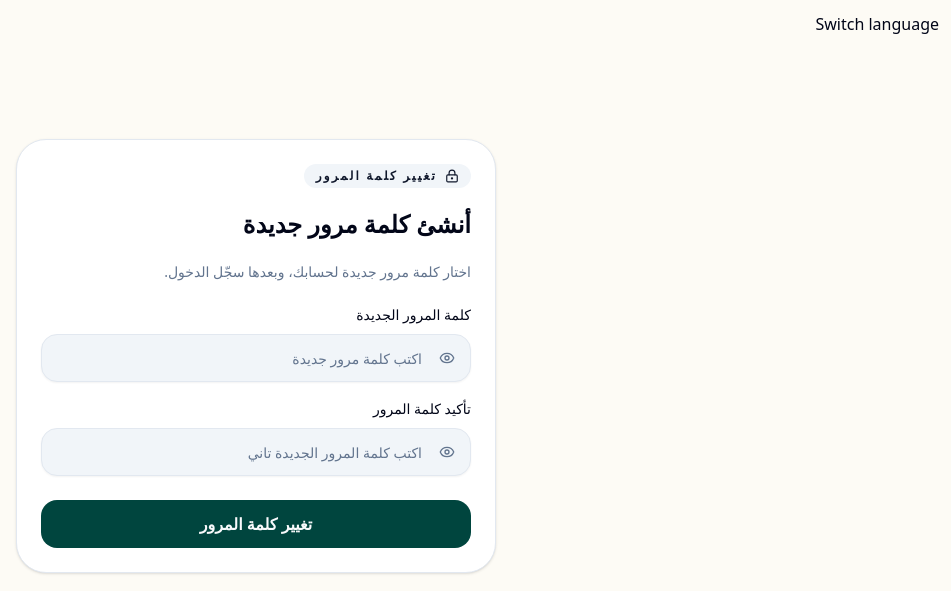
Test: localized account recovery › validates confirmation, labels visibility controls, and sends the reset token
The width and height of the screenshot is (951, 591).
Type "Test-password" into the password field labelled "كلمة المرور الجديدة".
click(256, 358); type("Test-password")  # box [41,334,471,382]
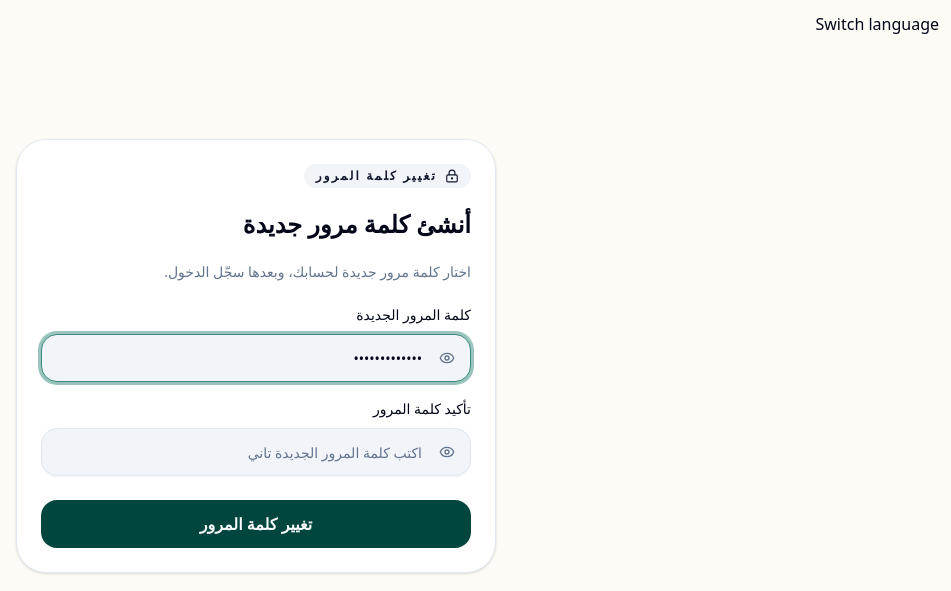
Click the button named "إظهار كلمة المرور" below "كلمة المرور الجديدة".
click(447, 358)  # box [439,350,455,366]
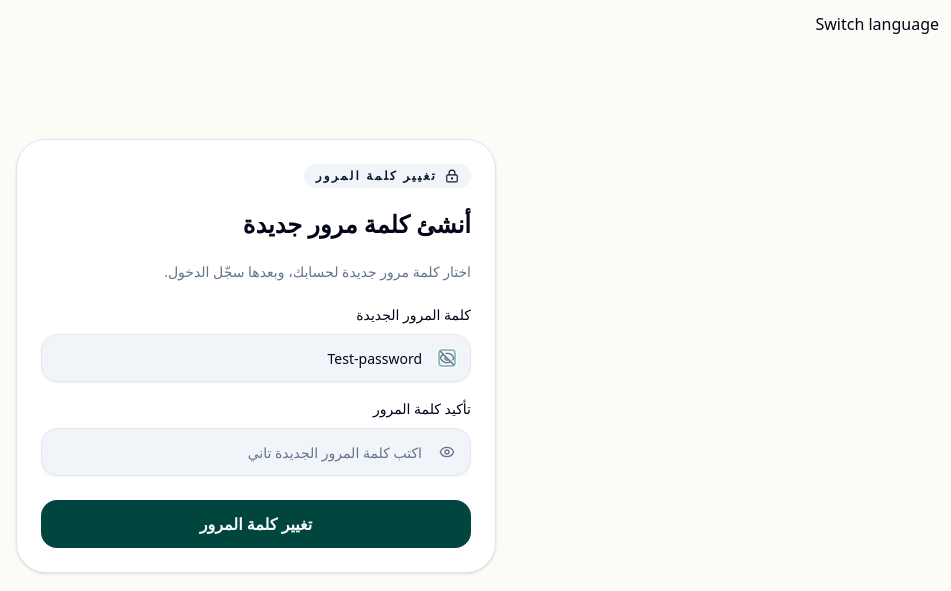
Result: the field labelled "كلمة المرور الجديدة" shows its text at [41,334,471,382]
Type "Different-password" into the password field labelled "تأكيد كلمة المرور".
click(256, 452); type("Different-password")  # box [41,428,471,476]
Then press Enter
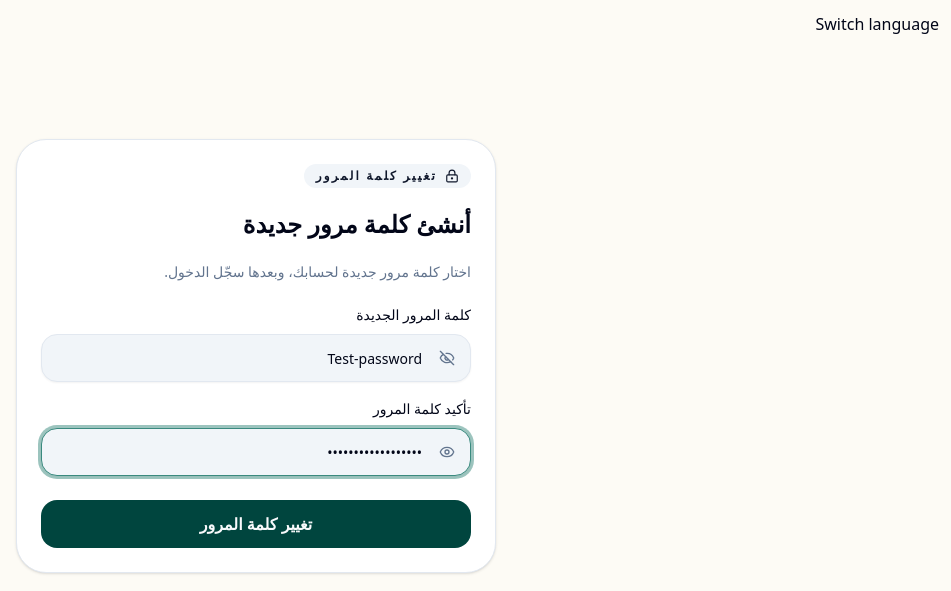
Type "Test-password" into the password field labelled "تأكيد كلمة المرور".
click(256, 452); type("Test-password")  # box [41,428,471,476]
Then press Enter
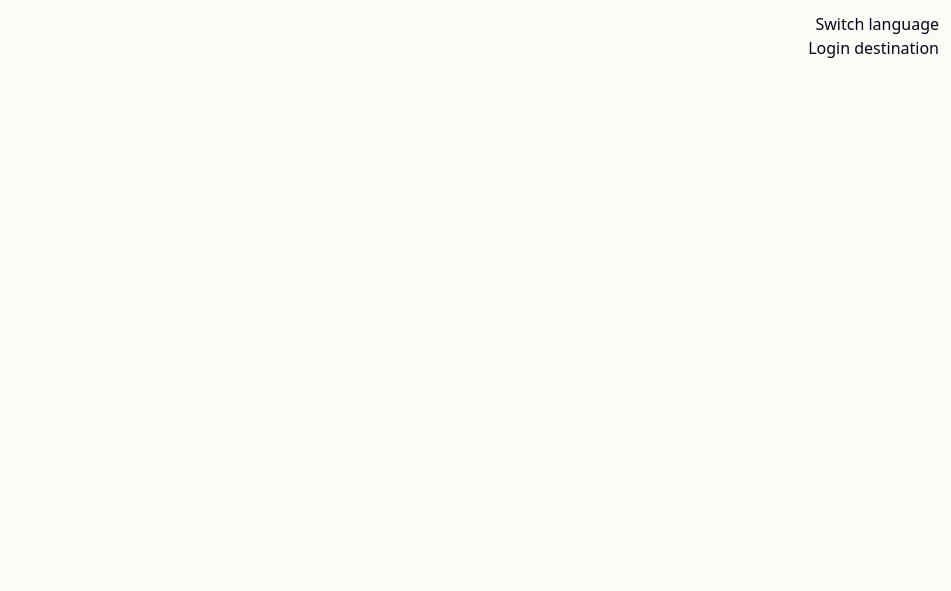
Result: the heading "Login destination" is shown at [808,37,939,59]
